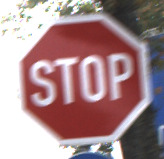stopsign: (19, 14, 151, 147)
